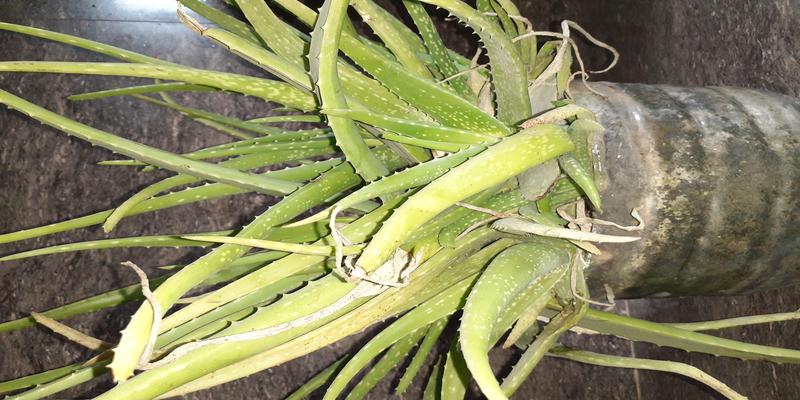Aloevera: (156, 4, 608, 395)
